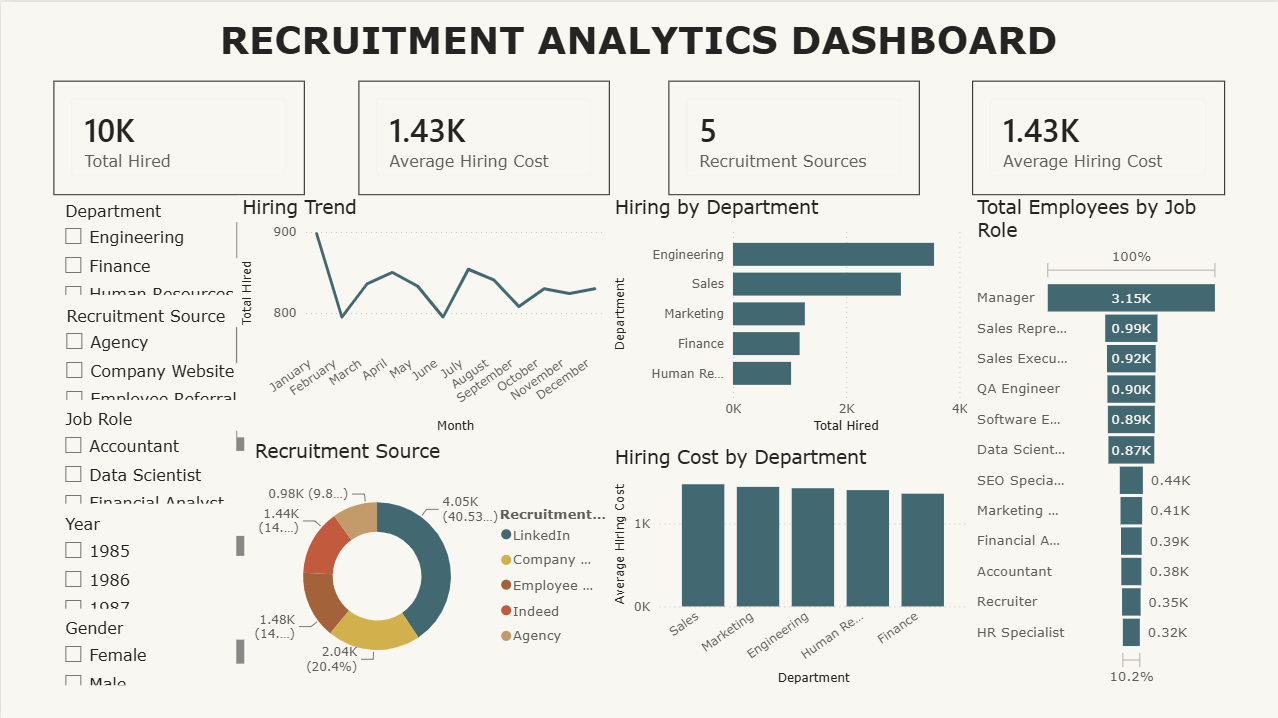

The dashboard page shown, as its layout file describes it:
{"tool":"powerbi","page":{"name":"RECRUITMENT ANALYTICS DASHBOARD","canvas":[1280,720],"ordinal":1},"visuals":[{"type":"textbox","box":[51.4,10,1172.9,68.6],"z":0},{"type":"cardVisual","fields":{"Data":["HR.Recruitment Sources"]},"box":[667.1,78.6,251.4,114.3],"z":1000},{"type":"cardVisual","fields":{"Data":["HR.Average Hiring Cost"]},"box":[357.1,78.6,251.4,114.3],"z":2000},{"type":"cardVisual","fields":{"Data":["HR.Total Hired"]},"box":[52.9,78.6,251.4,114.3],"z":3000},{"type":"cardVisual","fields":{"Data":["HR.Average Hiring Cost"]},"box":[971.4,78.6,252.9,114.3],"z":4000},{"type":"donutChart","title":"Recruitment Source","fields":{"Category":["HR.Recruitment Source"],"Y":["HR.Total Employees"]},"box":[248.6,437.1,360,251.4],"z":5000},{"type":"clusteredColumnChart","title":"Hiring Cost by Department","fields":{"Category":["HR.Department"],"Y":["HR.Average Hiring Cost"]},"box":[608.6,444.3,362.9,244.3],"z":6000},{"type":"slicer","fields":{"Values":["HR.Department"]},"box":[51.4,194.3,197.1,104.3],"z":8000},{"type":"slicer","fields":{"Values":["HR.Recruitment Source"]},"box":[52.9,298.6,195.7,104.3],"z":9000},{"type":"slicer","fields":{"Values":["HR.Job Role"]},"box":[51.4,402.9,197.1,104.3],"z":10000},{"type":"slicer","fields":{"Values":["HR.Hire Date.Variation.Date Hierarchy.Year"]},"box":[51.4,507.1,197.1,104.3],"z":11000},{"type":"slicer","fields":{"Values":["HR.Gender"]},"box":[51.4,611.4,197.1,77.1],"z":12000},{"type":"lineChart","title":"Hiring Trend","fields":{"Y":["HR.Total Hired"],"Category":["HR.Hire Date.Variation.Date Hierarchy.Month"]},"box":[235.7,194.3,372.9,241.4],"z":13000},{"type":"clusteredBarChart","title":"Hiring by Department","fields":{"Category":["HR.Department"],"Y":["HR.Total Hired"]},"box":[608.6,194.3,362.9,241.4],"z":14000},{"type":"funnel","fields":{"Category":["HR.Job Role","HR.Department"],"Y":["HR.Total Employees"]},"box":[971.4,194.3,252.9,494.3],"z":15000}]}

Visuals, with their boxes in screenshot pixels (x1, y1, x2, y2), scaled from the page's 1280x720 canvas onto the 1278x718 screenshot:
textbox: bbox(51, 10, 1222, 78)
cardVisual - HR.Recruitment Sources: bbox(666, 78, 917, 192)
cardVisual - HR.Average Hiring Cost: bbox(357, 78, 608, 192)
cardVisual - HR.Total Hired: bbox(53, 78, 304, 192)
cardVisual - HR.Average Hiring Cost: bbox(970, 78, 1222, 192)
"Recruitment Source" donutChart: bbox(248, 436, 608, 687)
"Hiring Cost by Department" clusteredColumnChart: bbox(608, 443, 970, 687)
slicer - HR.Department: bbox(51, 194, 248, 298)
slicer - HR.Recruitment Source: bbox(53, 298, 248, 402)
slicer - HR.Job Role: bbox(51, 402, 248, 506)
slicer - HR.Hire Date.Variation.Date Hierarchy.Year: bbox(51, 506, 248, 610)
slicer - HR.Gender: bbox(51, 610, 248, 687)
"Hiring Trend" lineChart: bbox(235, 194, 608, 434)
"Hiring by Department" clusteredBarChart: bbox(608, 194, 970, 434)
funnel - HR.Job Role x HR.Department: bbox(970, 194, 1222, 687)
